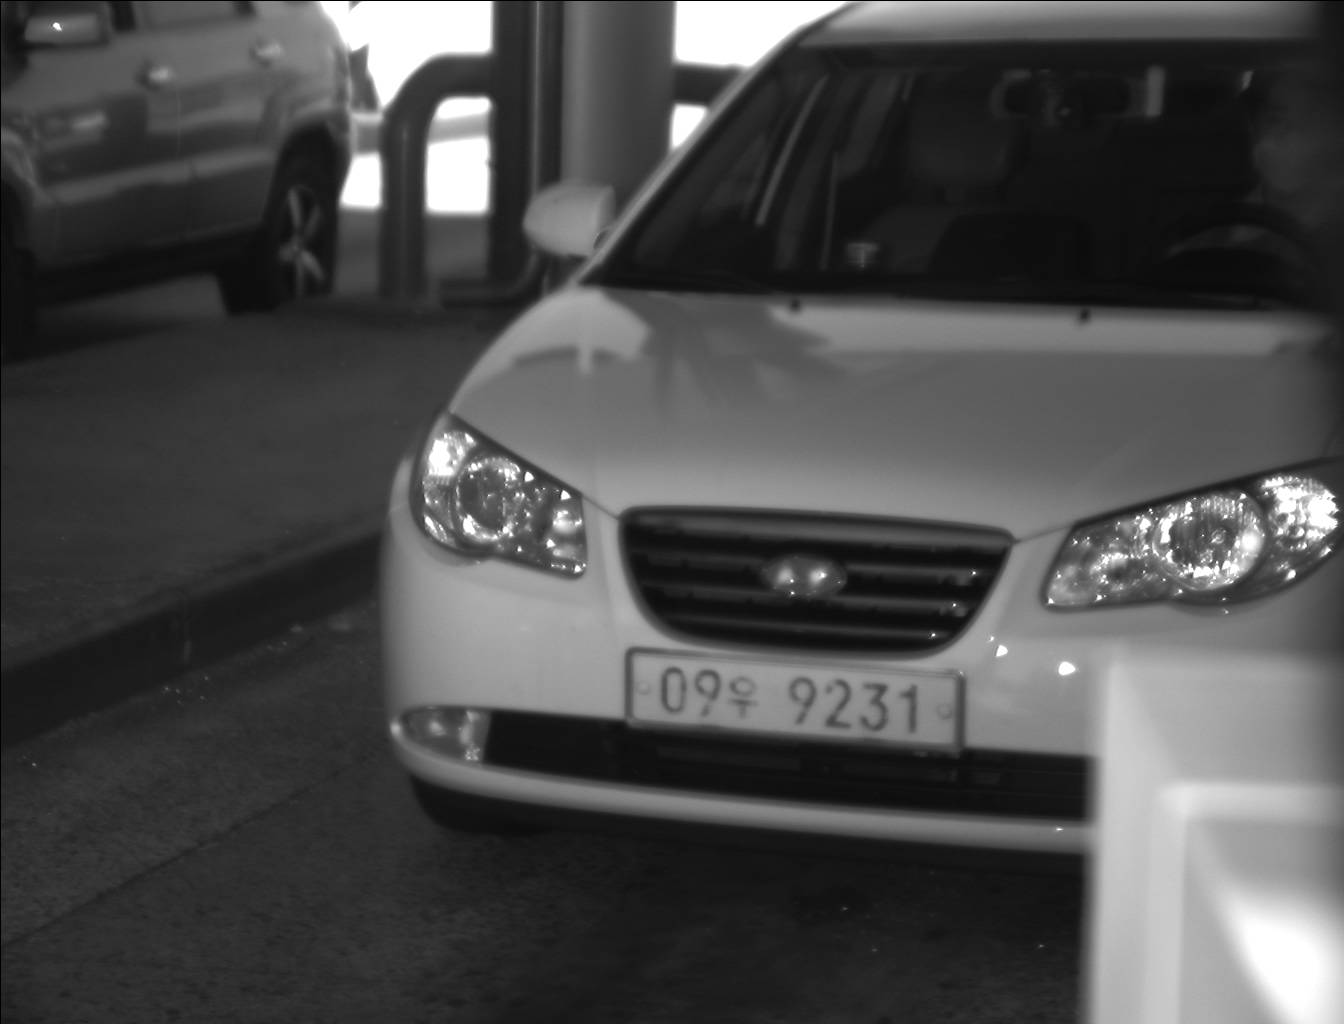car: (372, 2, 1344, 877), (1, 1, 358, 353)
plate: (623, 646, 966, 765)
